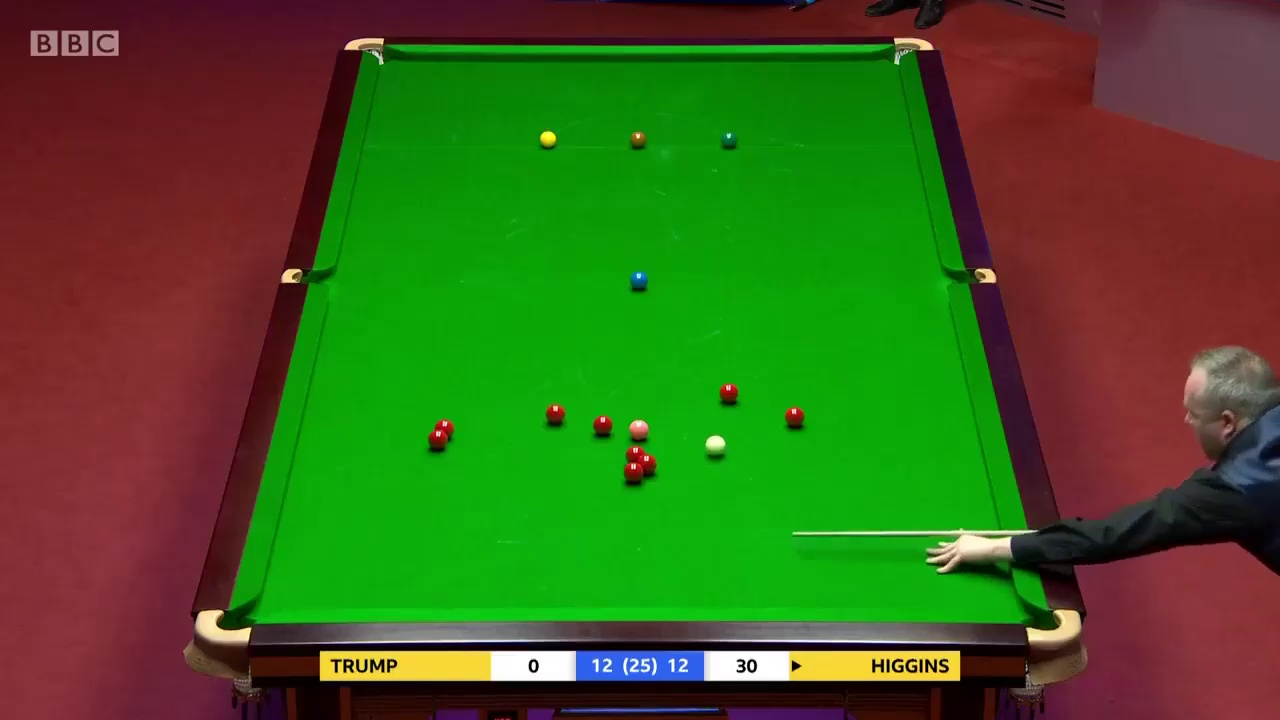ball: (627, 419, 650, 440), (718, 382, 740, 403), (627, 271, 650, 291), (703, 435, 726, 455), (545, 402, 565, 424), (785, 406, 805, 427), (592, 415, 611, 437), (621, 462, 642, 481), (627, 130, 646, 149), (430, 429, 446, 451), (538, 132, 557, 149), (720, 131, 737, 149)
